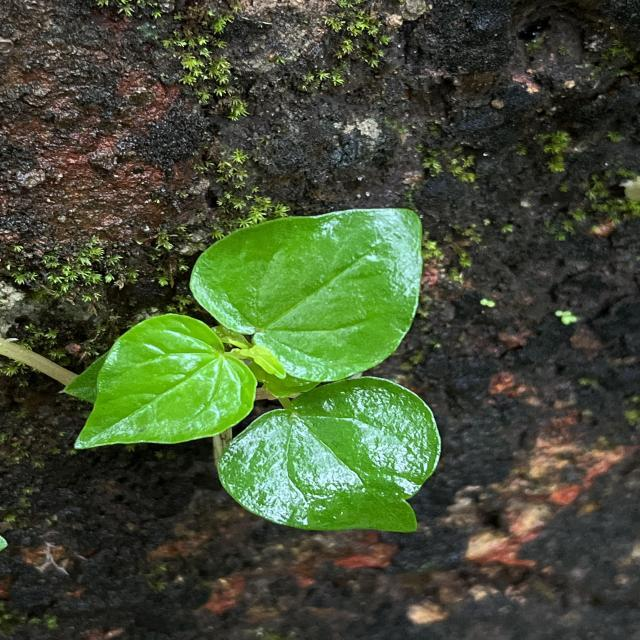Peperomia pellucida: (188, 206, 426, 384), (216, 376, 444, 535), (72, 312, 258, 452)
